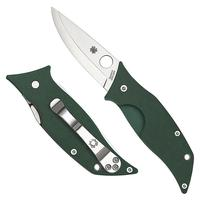knife: (47, 4, 194, 184)
